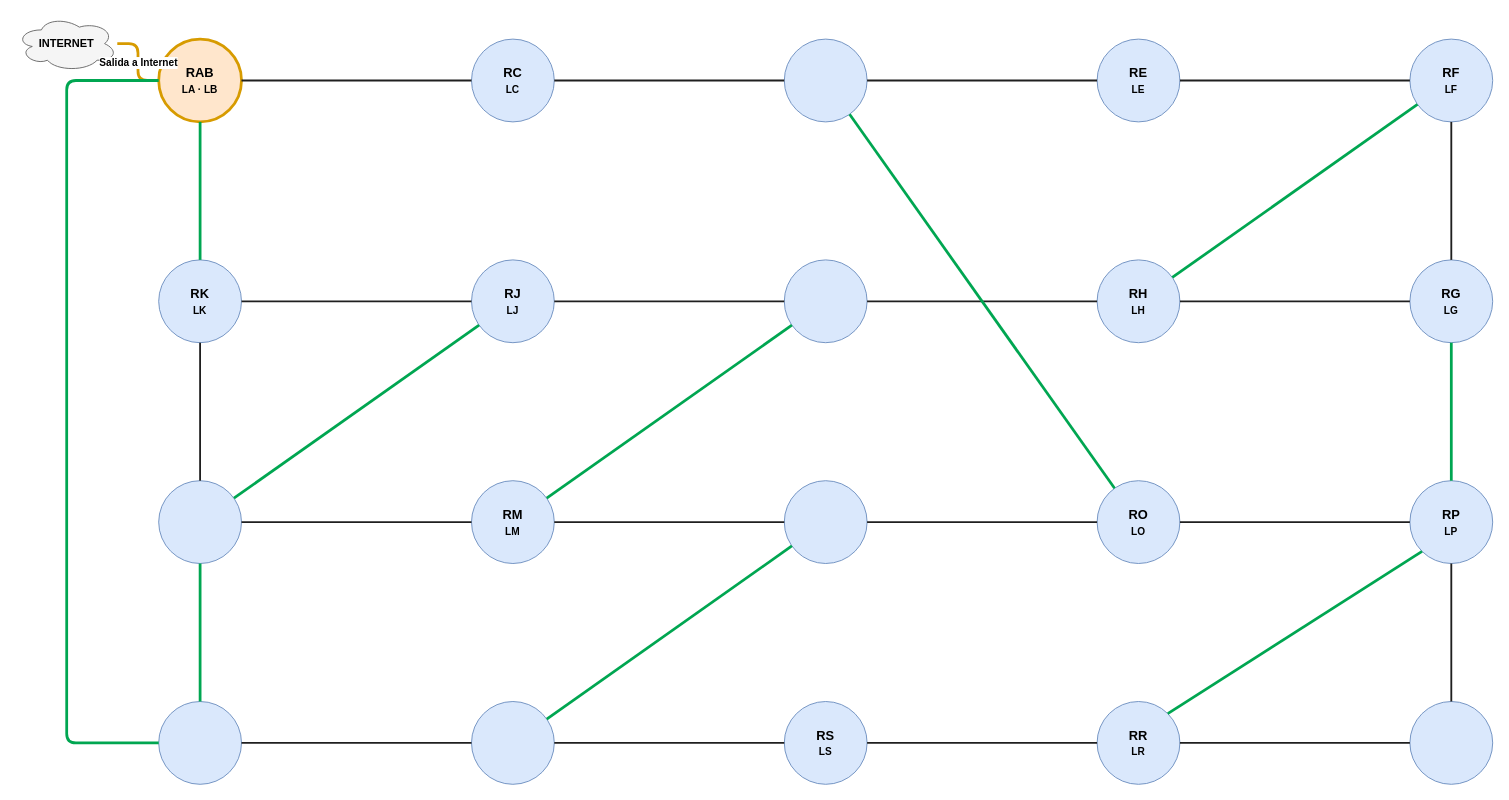
The diagram is 1509 pixels wide and 800 high, and some of its shapes have lost their labels. Here are the shapes that lost their labels. From the top down, the centre of each, then its label:
At (825,80): "RD LD".
At (825,301): "RI LI".
At (200,522): "RL LL".
At (825,522): "RN LN".
At (200,742): "RUV LU · LV".
At (512,742): "RT LT".
At (1451,742): "RQ LQ".
